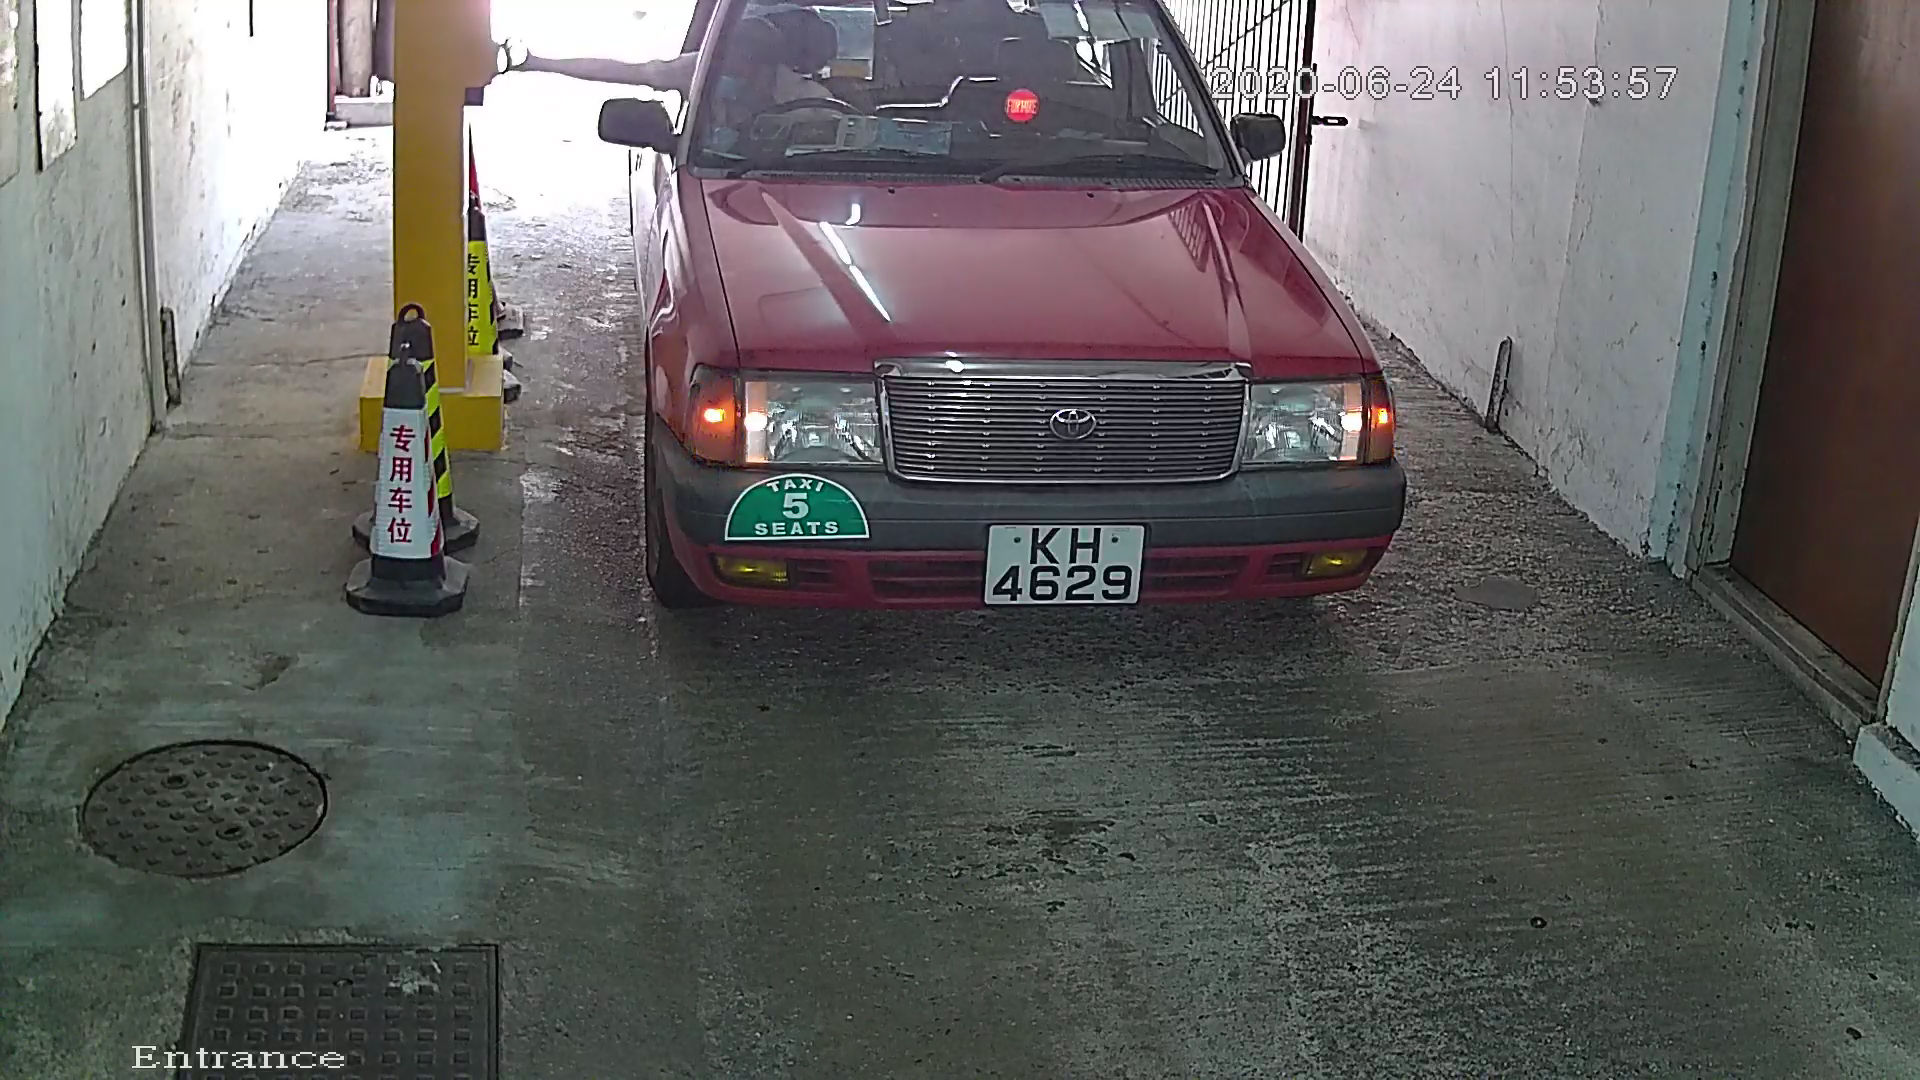Car: (547, 1, 1436, 742)
License Plate: (976, 509, 1153, 637)
